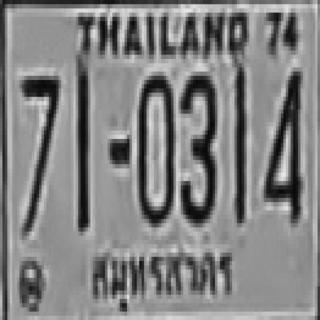N00: (137, 72, 173, 223)
N01: (74, 65, 89, 229), (232, 65, 244, 221)
N03: (178, 72, 215, 219)
N04: (262, 67, 300, 219)
N07: (20, 72, 58, 232), (20, 72, 58, 181)
P58: (88, 241, 237, 316)
